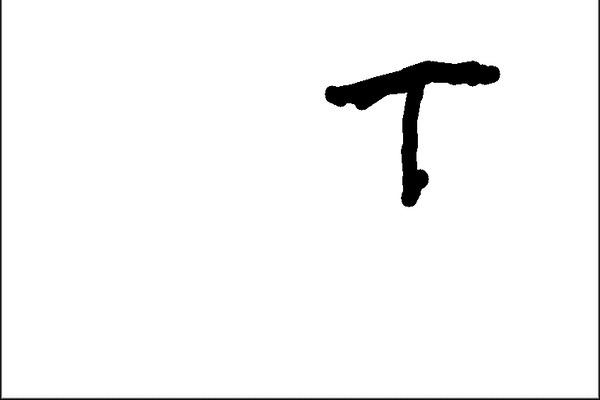T: (323, 58, 510, 208)
